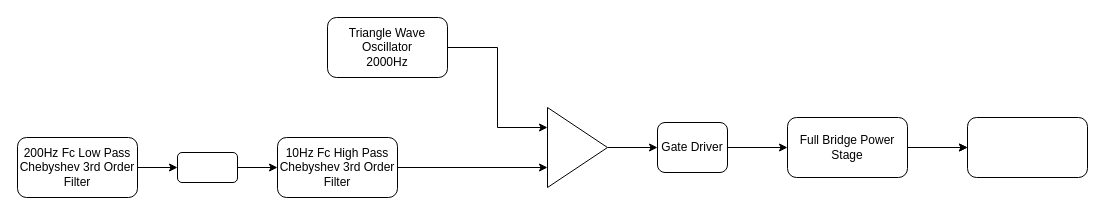
The diagram is 1105 pixels wide and 215 high, and some of its shapes have lost their labels. The shapes that lost their labels are listed below. From the top down, each one's centre as x and y in pixels, then its label:
At (207,167): "Follower".
At (577,147): "LM319".
At (1027,147): "Low Pass Passive LC Filter Fc=400Hz".
